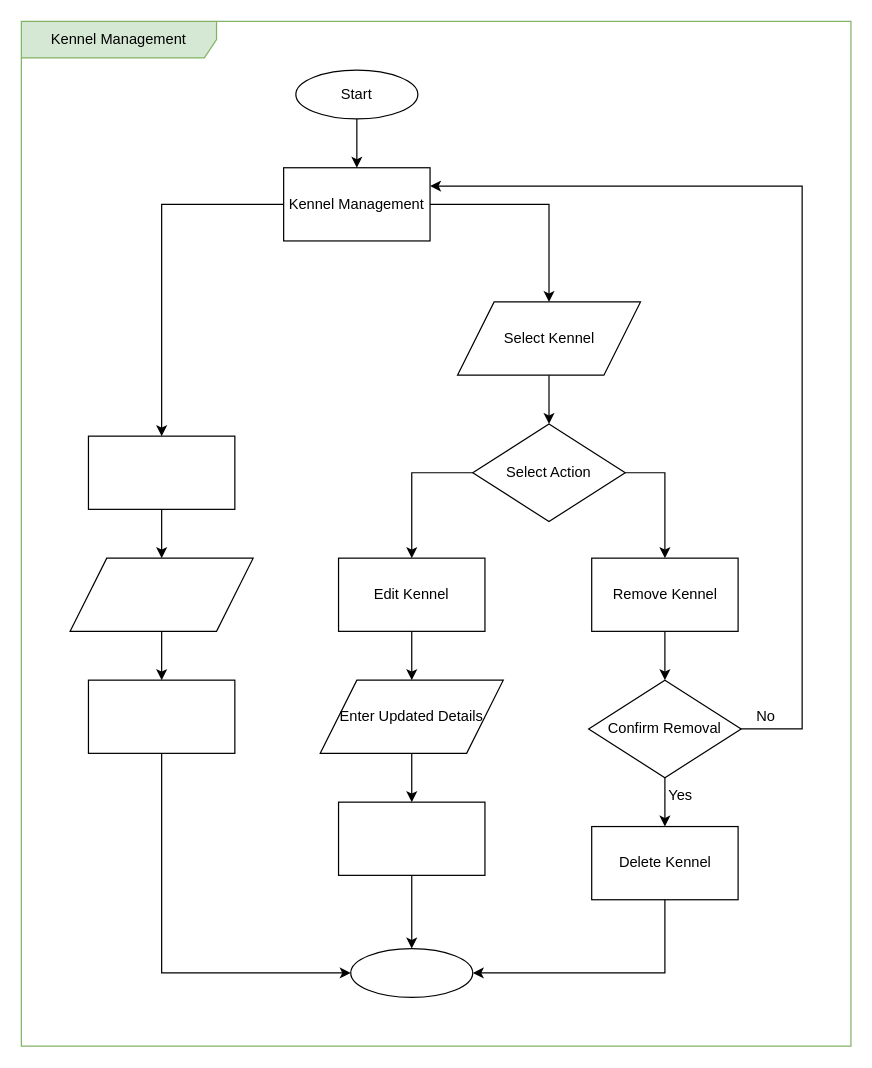
This 872x1068 diagram has some shape labels left out. The shapes that lost their labels are listed below. From the top down, each one's box as (x1, y1, x2, y2) in pixels, then its label:
(87, 435, 235, 509): Add Kennel
(69, 557, 253, 631): Enter Kennel Details
(87, 679, 235, 753): Save New Kennel
(337, 801, 485, 875): Save Changes
(350, 947, 473, 997): End
